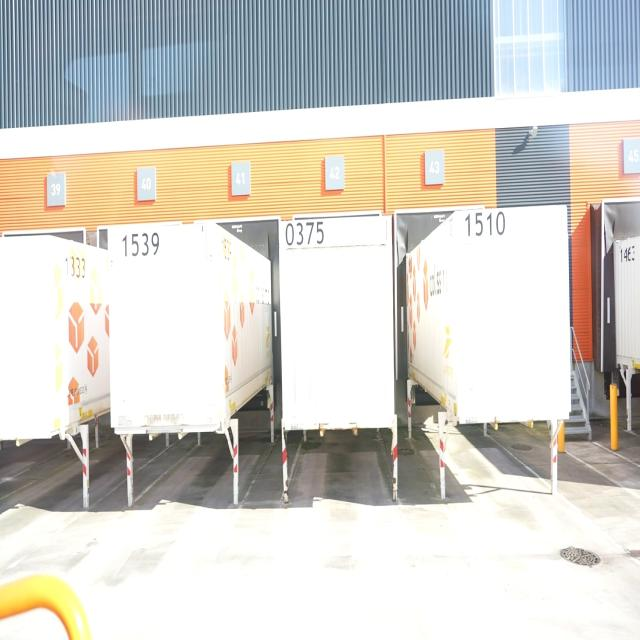Code: (281, 215, 329, 255), (459, 208, 511, 244), (121, 229, 162, 260), (60, 247, 91, 283)
